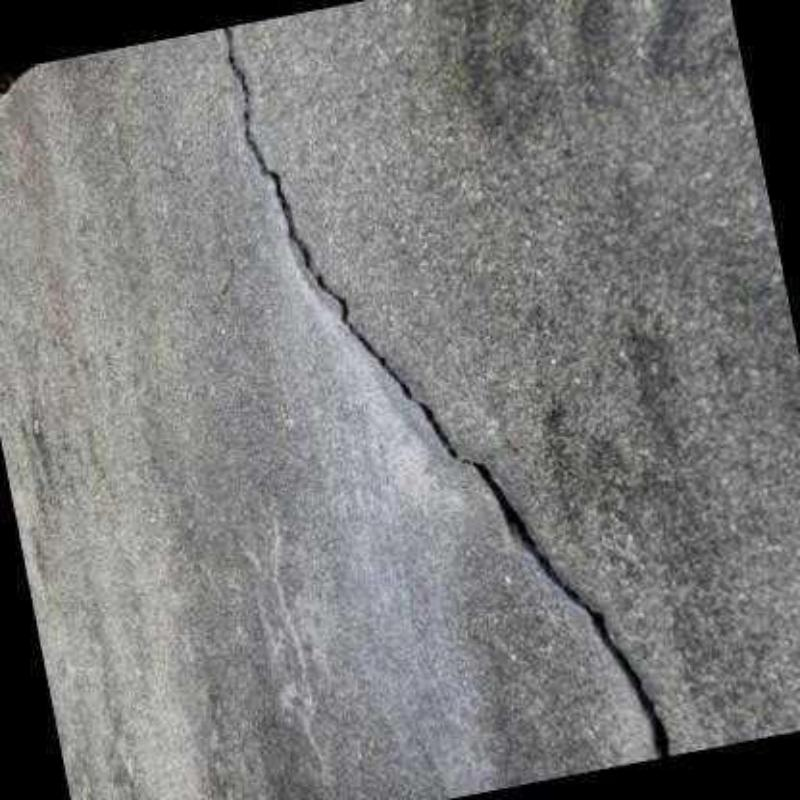crack: (222, 26, 670, 757)
